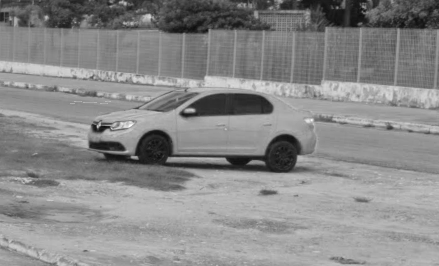car: (87, 76, 319, 176)
